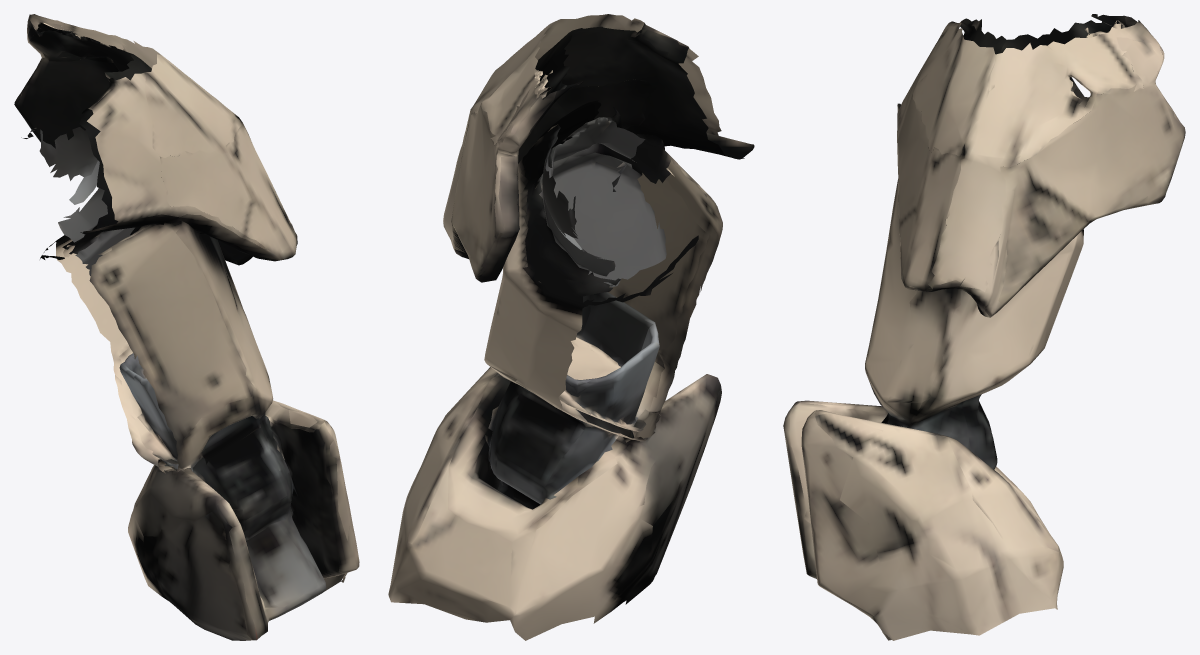
The model's file is wanzer_local_arm_right_001_upper.glb.
3 views of the same model, side by side, from view 1: azimuth 30°, elevation 25°; view 2: azimuth 150°, elevation 25°; view 3: azimuth 270°, elevation 25° (orthographic). The views are drawn at different scales.
Parts seen in each view (by area): view 1: P_arm_right_upper; view 2: P_arm_right_upper; view 3: P_arm_right_upper.
Part boxes in pixels (x1=…): P_arm_right_upper: x1=14, y1=14, x2=359, y2=640; P_arm_right_upper: x1=388, y1=14, x2=754, y2=640; P_arm_right_upper: x1=783, y1=14, x2=1185, y2=640.
Bounding box in the file's own units: 0.347 × 0.6722 × 0.4486.
Materials: 2 (2 with a texture image).
